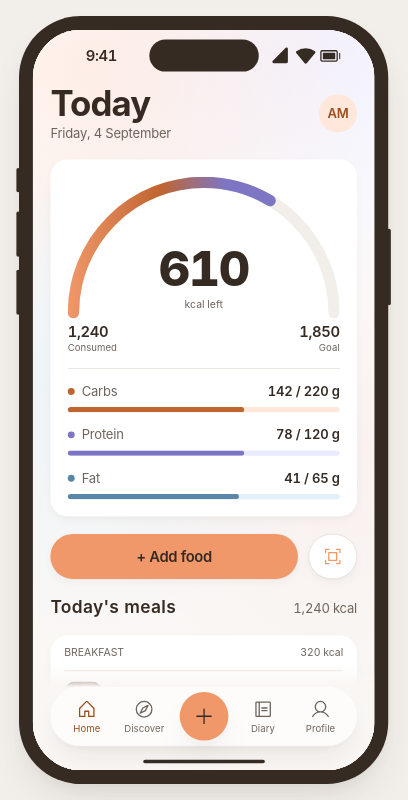
Test: TabBar › switches root destinations
The image size is (408, 800).
Click the link "Diary" at (263, 716), box [251,698,275,734]
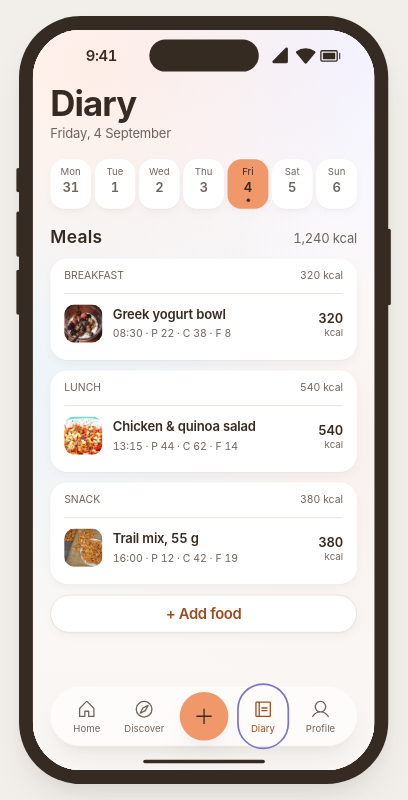
Expected: the heading "Diary" is shown, [51,82,137,125]
